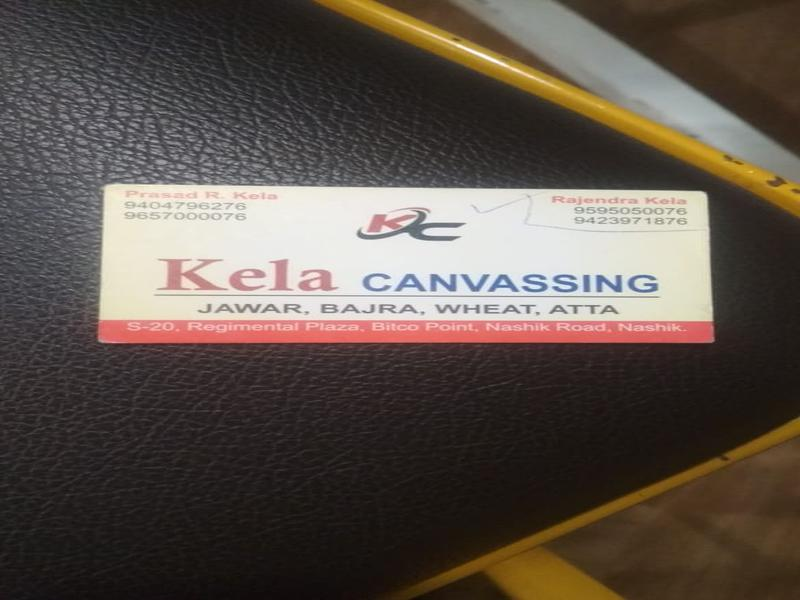card: (98, 182, 716, 346)
